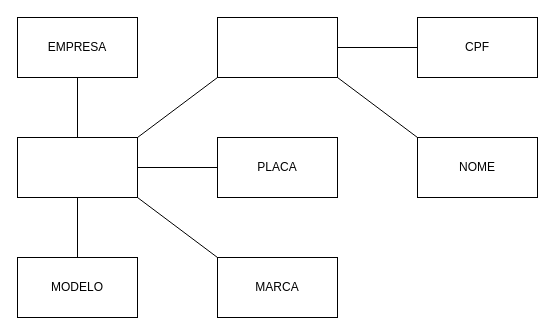
Some shapes in this 555 by 335 pixel diagram are drawn without their labels. The box of each missing label's shape, as (x1, y1, x2, y2) in pixels:
CLIENTE: (216, 16, 338, 78)
VEICULO: (16, 136, 138, 198)
